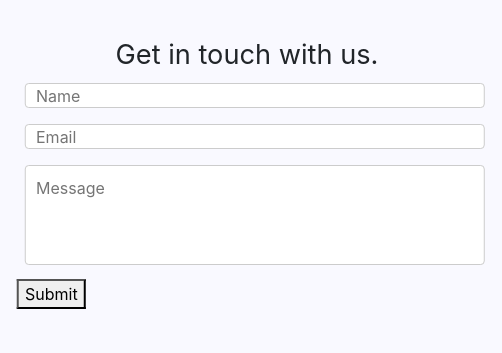
Test case: Contact form › displays error message when name is not valid
Step 1. Type "te" into the field with placeholder "Name" → (255, 96), box [25,83,485,108]
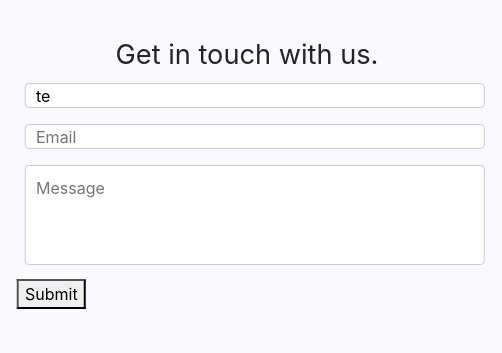
Step 2. Type "test@example.com" into the field with placeholder "Email" → (255, 137), box [25,124,485,149]
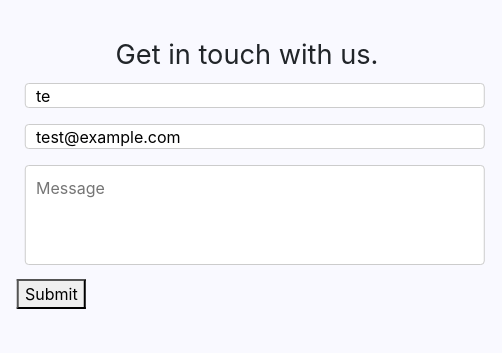
Step 3. Type "Test message" into the text box with placeholder "Message" → (255, 215), box [25,165,485,265]
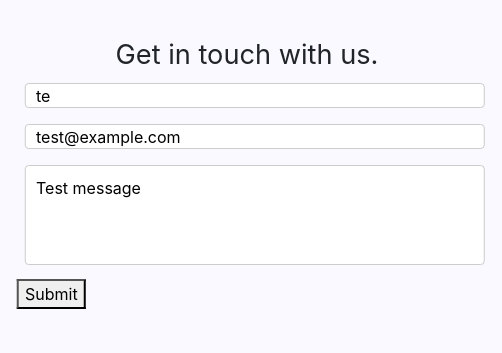
Step 4. Click the button "Submit" → click(51, 294), box [17,279,86,309]
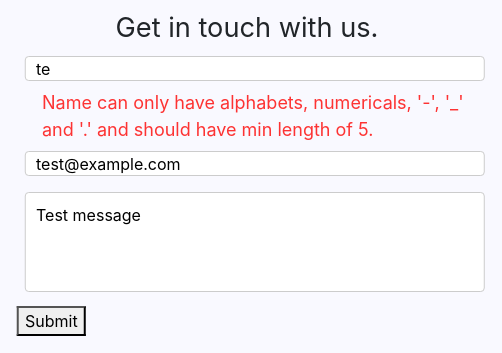
expect the text "Name can only have" is shown: met, box [42,92,464,140]
